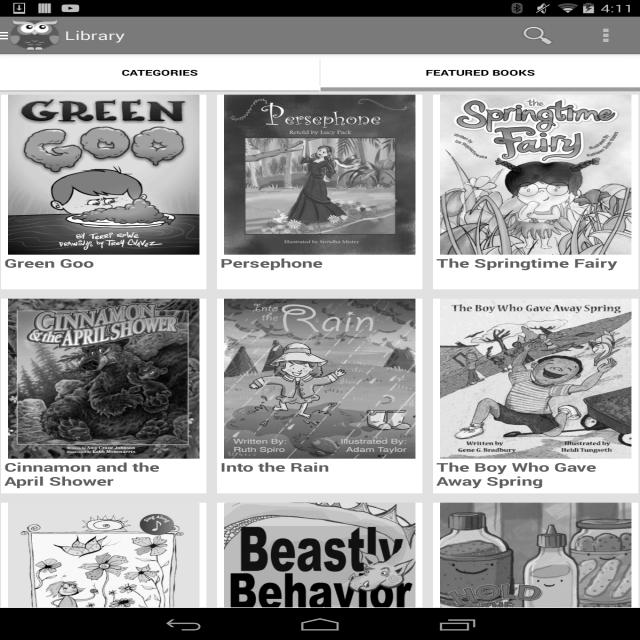ImageButton: (571, 16, 640, 54)
ImageView: (1, 94, 206, 254), (217, 94, 422, 254), (433, 94, 638, 254), (1, 298, 206, 458), (217, 298, 422, 458), (433, 298, 638, 458), (0, 502, 206, 640), (216, 502, 422, 640), (432, 502, 638, 640), (503, 17, 572, 54), (9, 19, 60, 52), (0, 32, 13, 40)
TextView: (4, 459, 203, 489), (436, 459, 635, 489), (4, 255, 203, 271), (220, 255, 419, 271), (436, 255, 635, 271), (220, 459, 419, 475), (426, 67, 535, 78), (64, 27, 126, 43), (121, 67, 198, 78)
